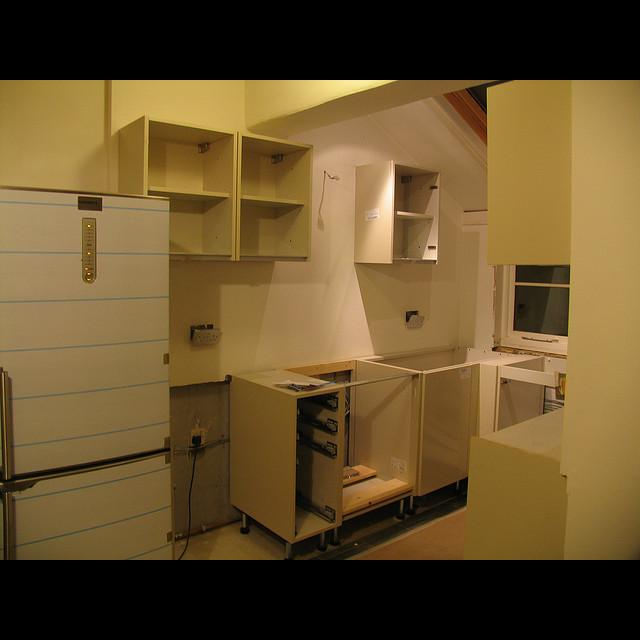Refrigerator: (0, 189, 174, 560)
